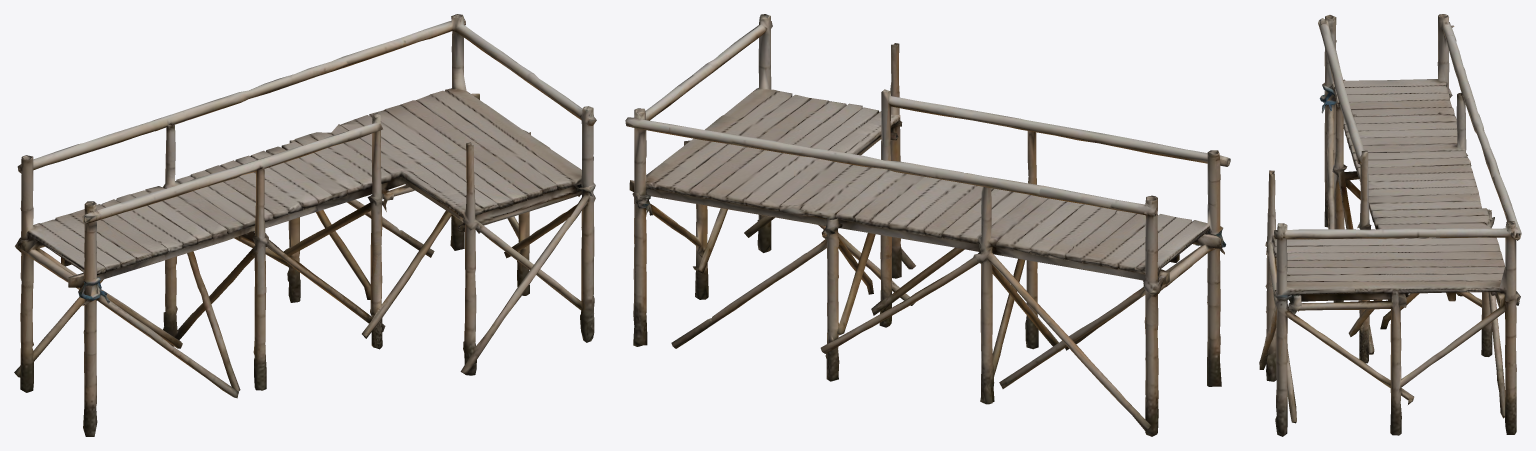
Rendered from jembatan_bambu_l.glb.
3 renders of one model, left to right at view 1: azimuth 30°, elevation 25°; view 2: azimuth 150°, elevation 25°; view 3: azimuth 270°, elevation 25°, orthographic. The views are drawn at different scales.
Parts seen in each view (by area): view 1: tripo_node_47d440b2-9a86-4abf-b847-68708bbed0ed; view 2: tripo_node_47d440b2-9a86-4abf-b847-68708bbed0ed; view 3: tripo_node_47d440b2-9a86-4abf-b847-68708bbed0ed.
Boxes of the visible parts, <box> form: tripo_node_47d440b2-9a86-4abf-b847-68708bbed0ed: <box>14,14,596,436</box>; tripo_node_47d440b2-9a86-4abf-b847-68708bbed0ed: <box>625,14,1230,436</box>; tripo_node_47d440b2-9a86-4abf-b847-68708bbed0ed: <box>1259,14,1521,436</box>.
Bounding box in the file's own units: 1 × 0.4474 × 0.5038.
1 material, 1 textured.
